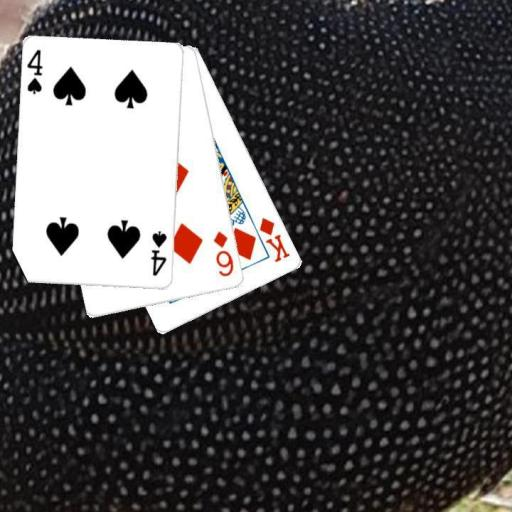card-corner: (256, 214, 292, 264), (210, 228, 236, 279), (148, 228, 169, 278), (24, 46, 44, 96)
